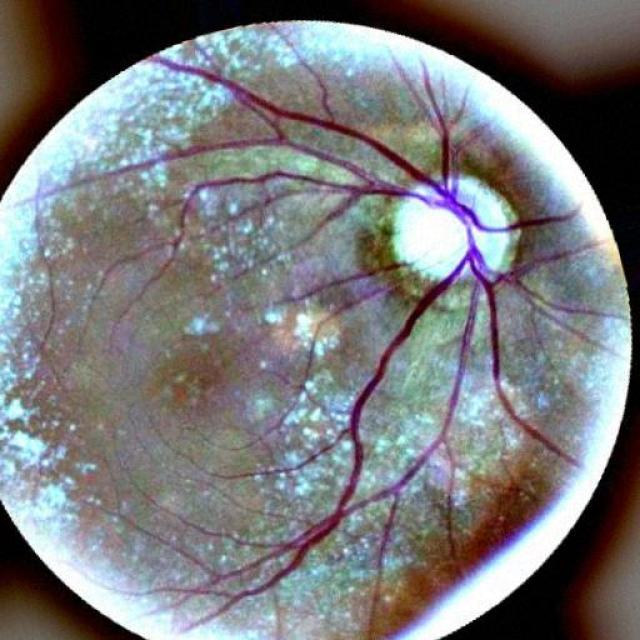Nerves: (160, 59, 575, 595), (390, 305, 472, 490)
Optic Disk: (394, 173, 505, 278), (456, 172, 513, 228), (474, 230, 517, 271)
